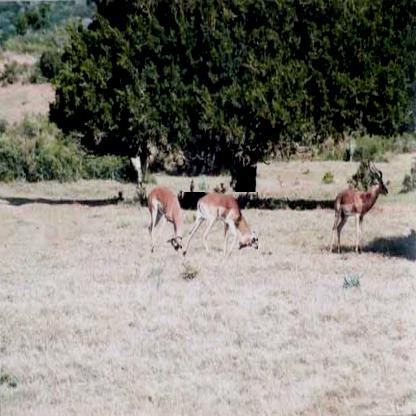Deer: (328, 158, 388, 253), (182, 192, 258, 257), (148, 186, 184, 253)
